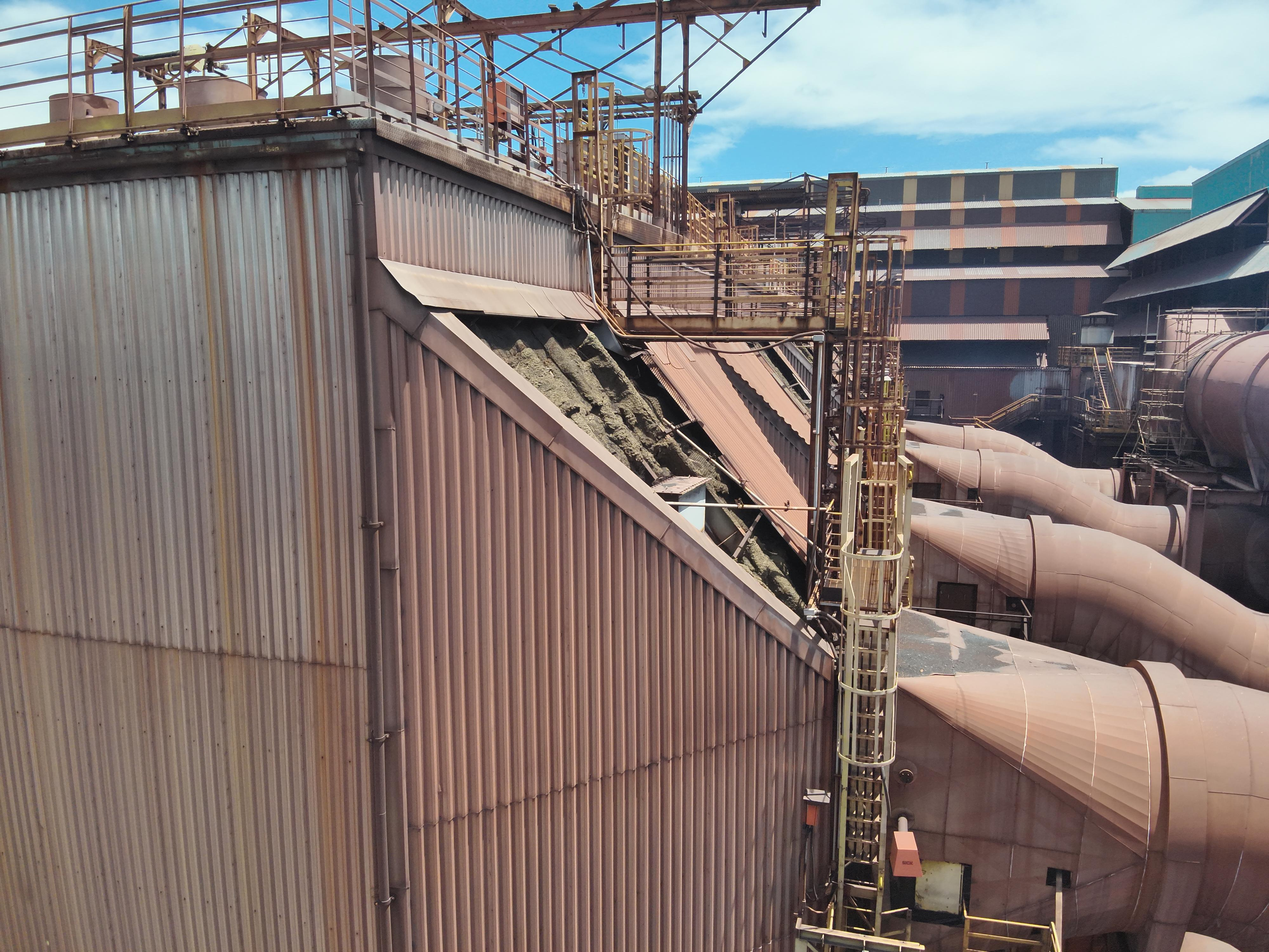Failures: (466, 321, 818, 610)
